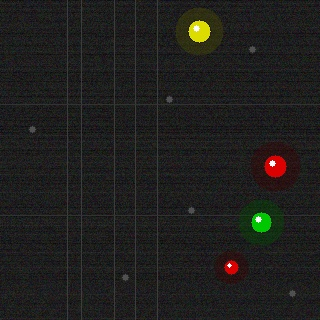green_normal: (249, 210, 273, 234)
red_fault: (262, 153, 288, 179), (222, 258, 240, 276)
yellow_warning: (186, 18, 212, 44)
